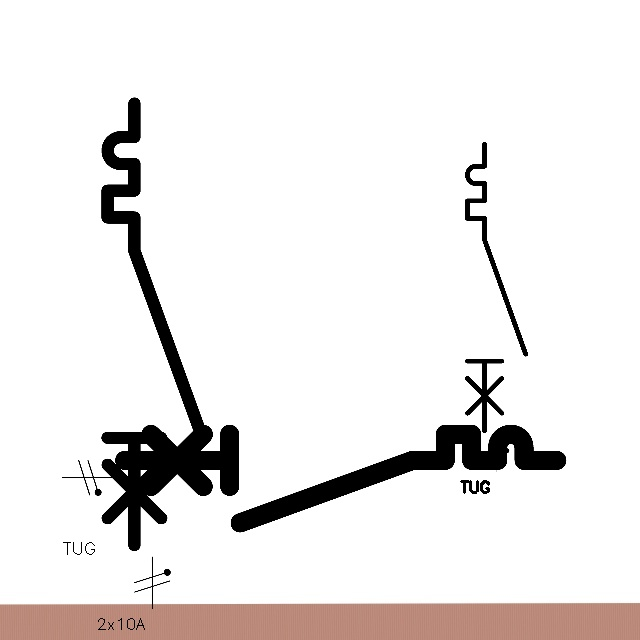interruptor_termomagnetico: (96, 92, 209, 557), (113, 423, 568, 534), (460, 137, 533, 437)
